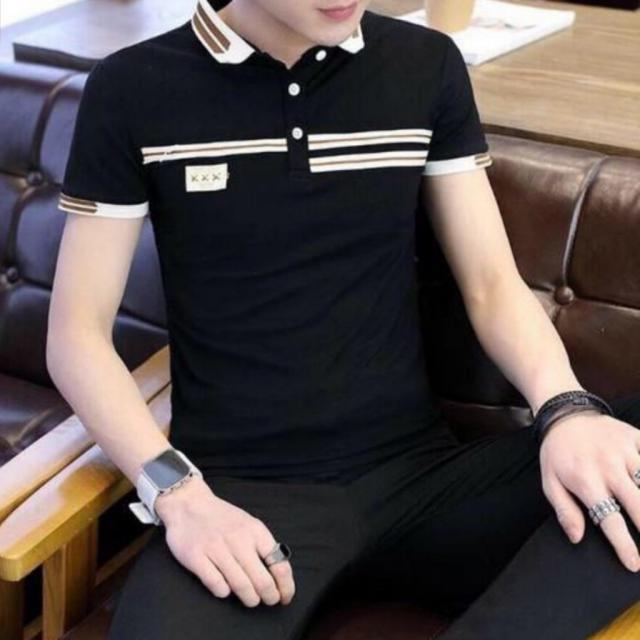Siting: (43, 0, 640, 640)
